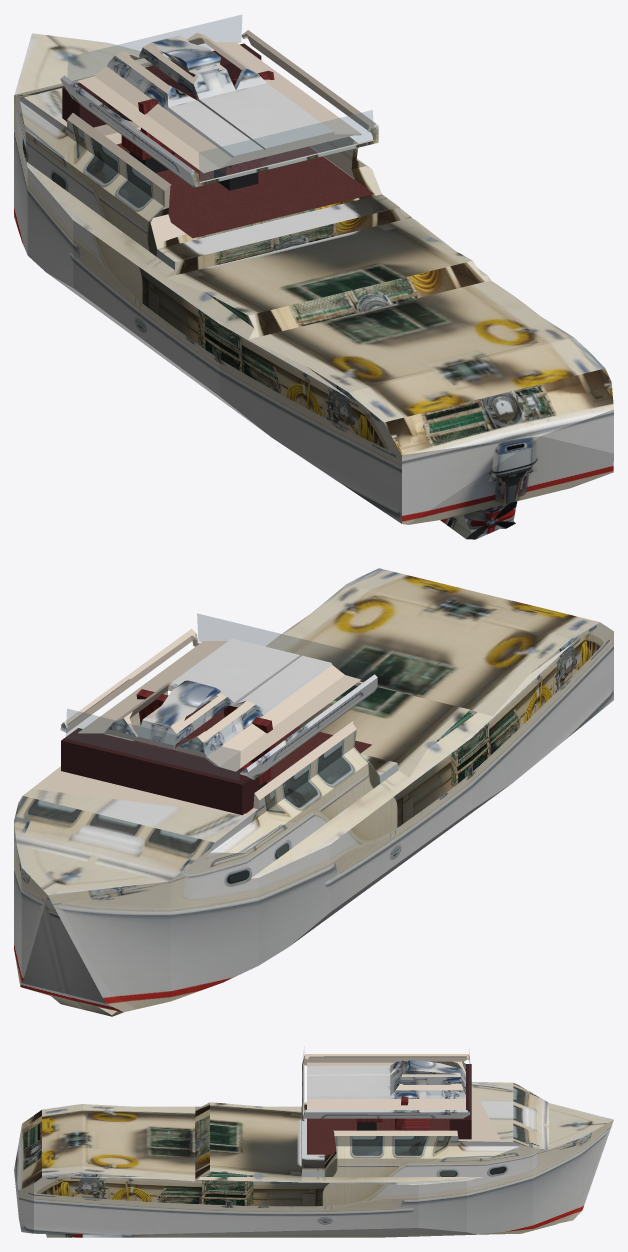
Rendered from lobster_boat.glb.
3 views of the same model, one above another, from view 1: azimuth 30°, elevation 25°; view 2: azimuth 150°, elevation 25°; view 3: azimuth 270°, elevation 25° (orthographic). The views are drawn at different scales.
Visible parts, largest first — view 1: lobster_boat, lobster_boat_cabin; view 2: lobster_boat, lobster_boat_cabin; view 3: lobster_boat, lobster_boat_cabin.
Part boxes in pixels (box(x1,y1,x2,y2)): lobster_boat: box(14, 30, 613, 539); lobster_boat_cabin: box(62, 15, 373, 238); lobster_boat: box(14, 568, 613, 1016); lobster_boat_cabin: box(61, 613, 371, 815); lobster_boat: box(14, 1054, 613, 1237); lobster_boat_cabin: box(303, 1052, 471, 1154).
Bounding box in the file's own units: 3.45 × 3.44 × 10.99.
Materials: 10 (4 with a texture image).
